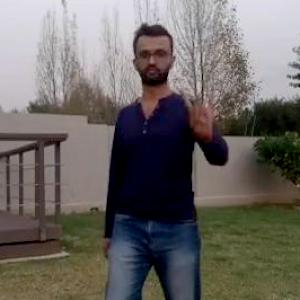takeoff-hand: (180, 81, 224, 138)
